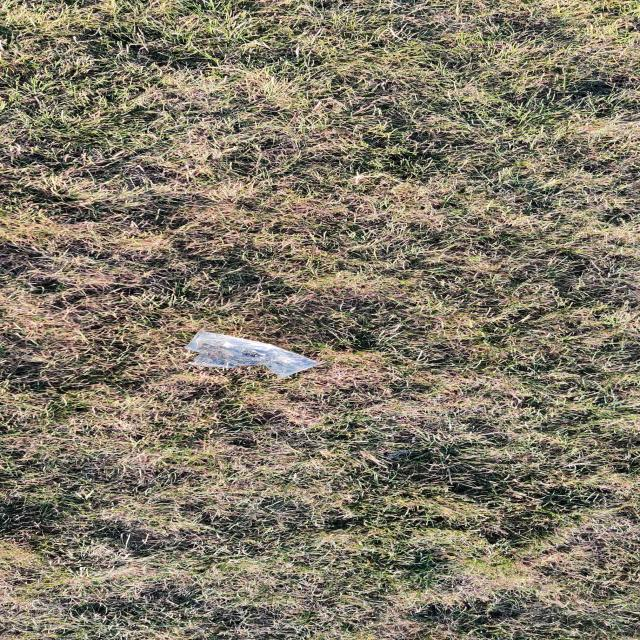litter: (184, 331, 318, 377)
